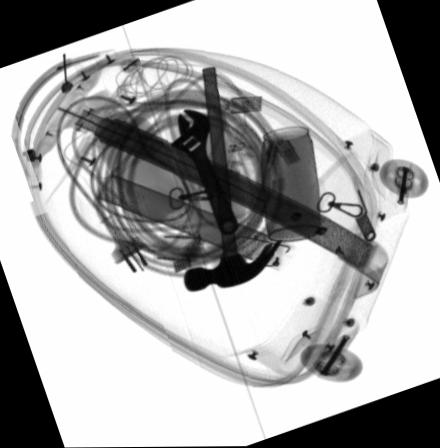Hammer: (181, 64, 283, 290)
Wrench: (168, 108, 239, 235)
